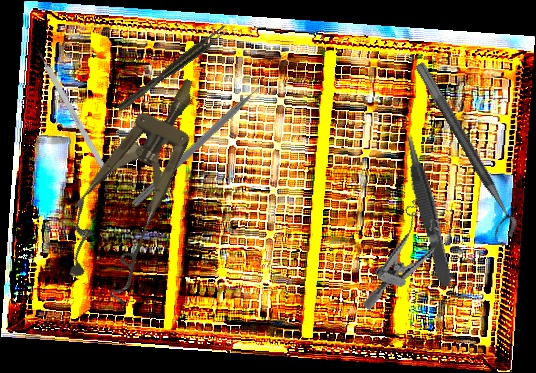Chopper: (131, 77, 277, 215)
Fixation Ring: (400, 60, 523, 246)
Hook Surgical: (30, 40, 108, 172)
Speculum: (45, 60, 231, 305), (361, 194, 451, 326)
Tissue Forceps: (114, 23, 230, 113), (400, 132, 454, 289)
